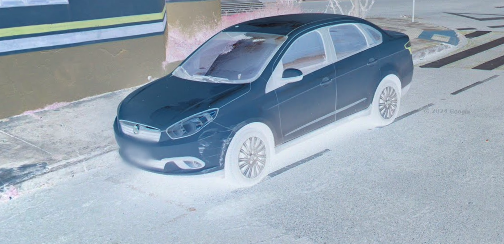car: (112, 10, 418, 185)
